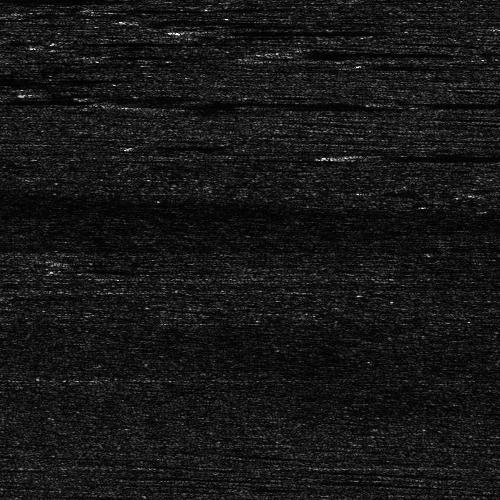rock: (74, 96, 157, 109), (10, 36, 103, 47), (145, 24, 228, 35), (242, 47, 315, 56), (313, 152, 396, 159), (398, 97, 429, 110), (74, 53, 115, 58), (0, 93, 11, 106), (257, 103, 288, 106)
shadow: (0, 93, 308, 106), (116, 96, 339, 109), (187, 24, 333, 35), (57, 36, 194, 47), (279, 47, 428, 56), (414, 97, 500, 110), (355, 152, 500, 159), (95, 53, 187, 58), (273, 103, 368, 106), (0, 77, 54, 82), (0, 0, 109, 2)
